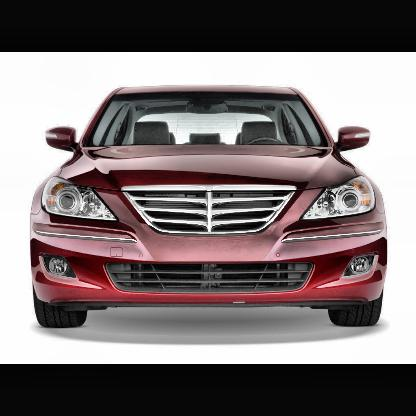Hyundai Genesis Sedan 2012: (30, 87, 389, 329)
